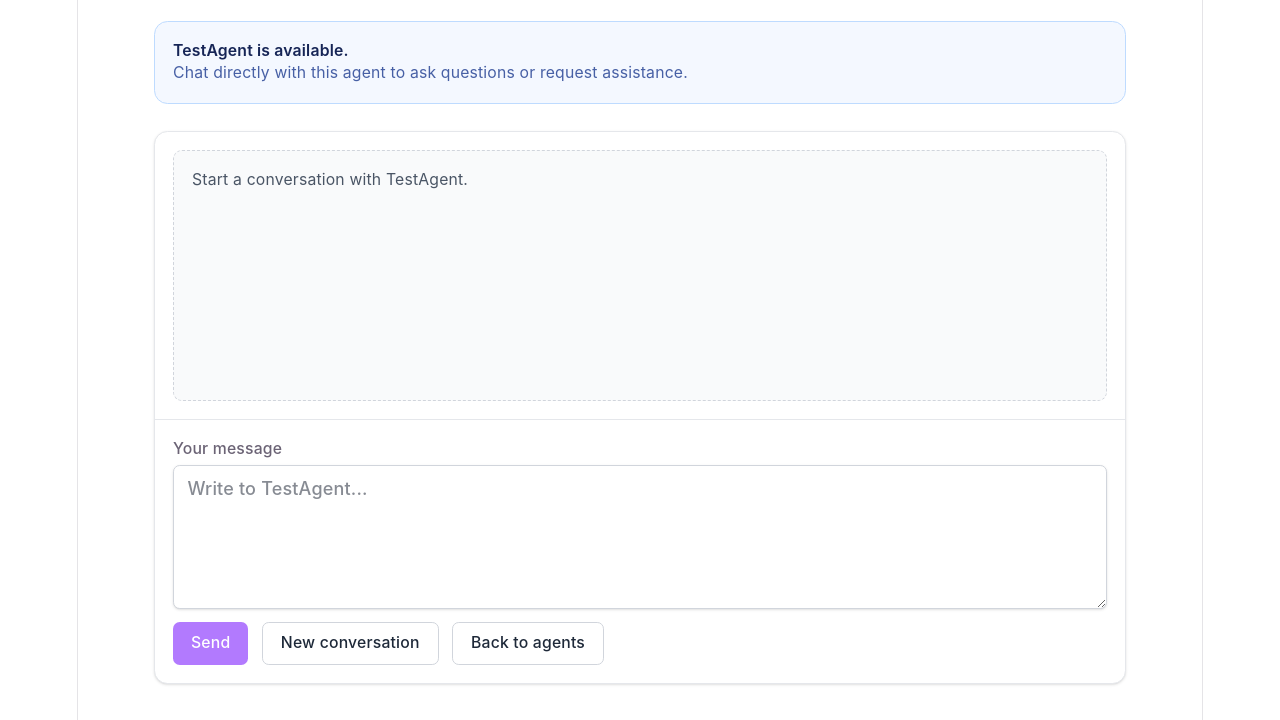
AgentChatPage › sends a message to the agent and renders the reply
The image size is (1280, 720).
(page scrolled)
Type "Hi TestAgent" into the text box labelled "Your message" at (640, 537), box [173,465,1107,609]
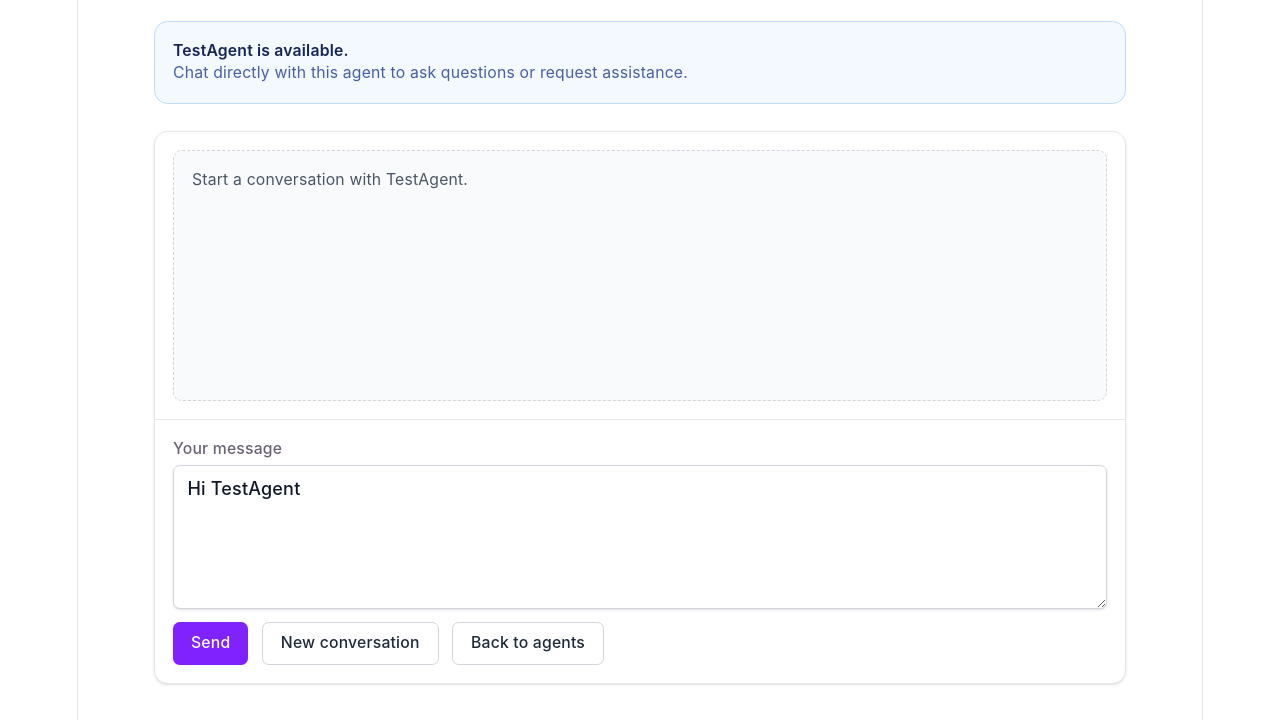
Click the button "Send" at (211, 643), box [173,622,248,665]
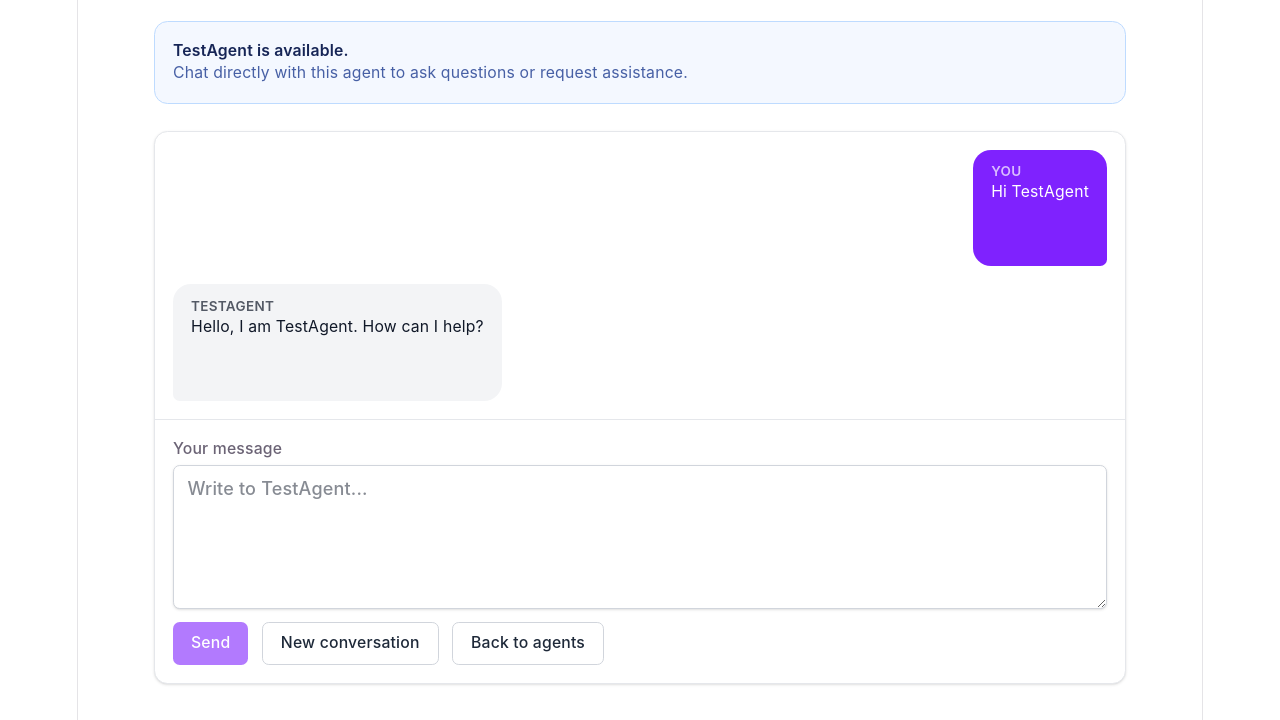
expect the text "Hi TestAgent" is shown: met, box [991,181,1089,204]
expect the text "Hello, I am TestAgent. How can I help?" is shown: met, box [191,316,484,338]
